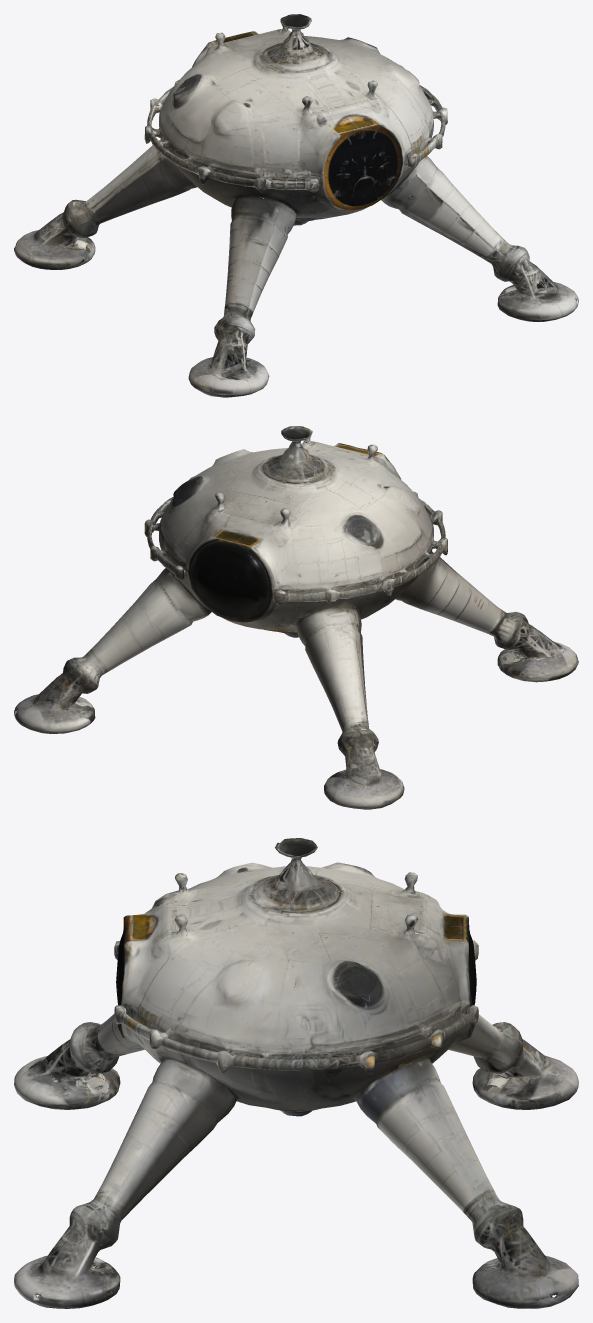
The model's file is 1970_s_sci_fi_lunar__1116201707_refine.glb.
3 views of the same model, one above another, from view 1: azimuth 30°, elevation 25°; view 2: azimuth 150°, elevation 25°; view 3: azimuth 270°, elevation 25° (orthographic). The views are drawn at different scales.
Parts seen in each view (by area): view 1: Mesh_0.002; view 2: Mesh_0.002; view 3: Mesh_0.002.
Boxes of the visible parts, box(x1,y1,x2,y2) form: Mesh_0.002: box(14, 14, 578, 397); Mesh_0.002: box(14, 426, 578, 809); Mesh_0.002: box(14, 838, 578, 1308).
Size of the model in its own units: 1.5 by 1 by 1.47.
1 material, 1 textured.
